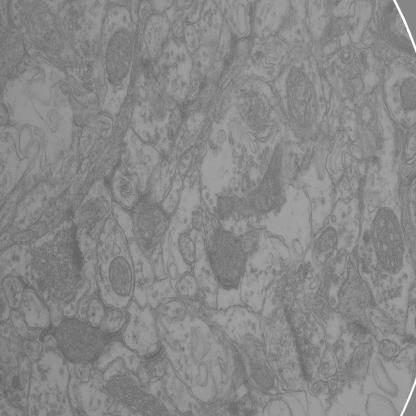mitochondria: (214, 142, 290, 218), (206, 217, 250, 293), (53, 310, 110, 368), (98, 374, 171, 416), (367, 201, 407, 275), (126, 191, 170, 258), (283, 60, 322, 134), (100, 27, 138, 89), (104, 248, 140, 303), (309, 222, 343, 272), (398, 74, 416, 112)
